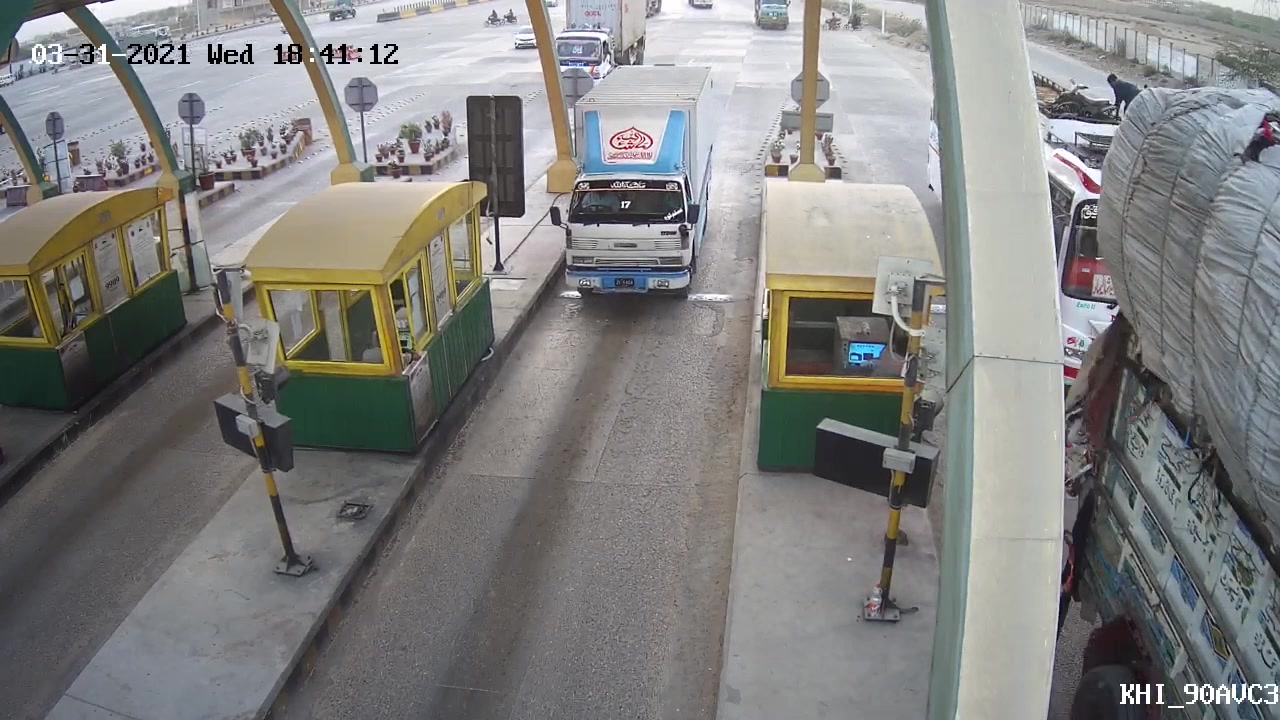F3: (545, 59, 733, 307)
